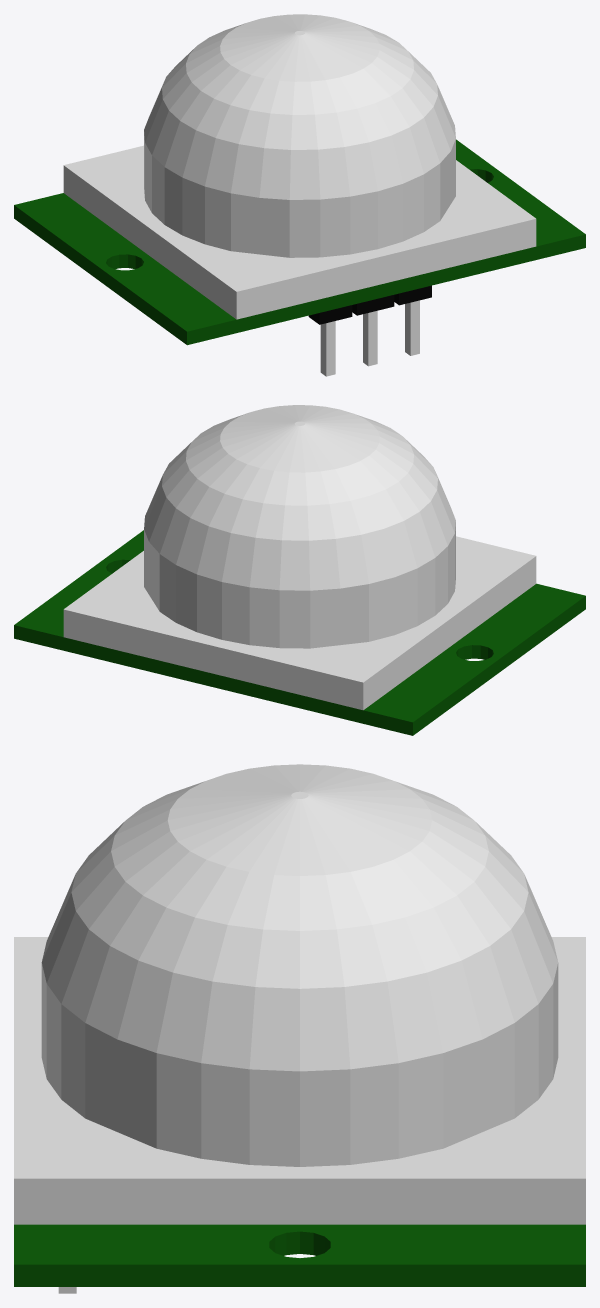
Rendered from PIRSensor.glb.
3 renders of one model, top to bottom at view 1: azimuth 30°, elevation 25°; view 2: azimuth 150°, elevation 25°; view 3: azimuth 270°, elevation 25°, orthographic. The views are drawn at different scales.
Visible parts, largest first — view 1: PIR Sensor; view 2: PIR Sensor; view 3: PIR Sensor.
Part boxes in pixels (left/top/right/bottom): PIR Sensor: left=14, top=14, right=585, bottom=376; PIR Sensor: left=14, top=405, right=585, bottom=735; PIR Sensor: left=14, top=764, right=585, bottom=1293.
Size of the model in its own units: 0.6267 by 0.4185 by 0.4711.
